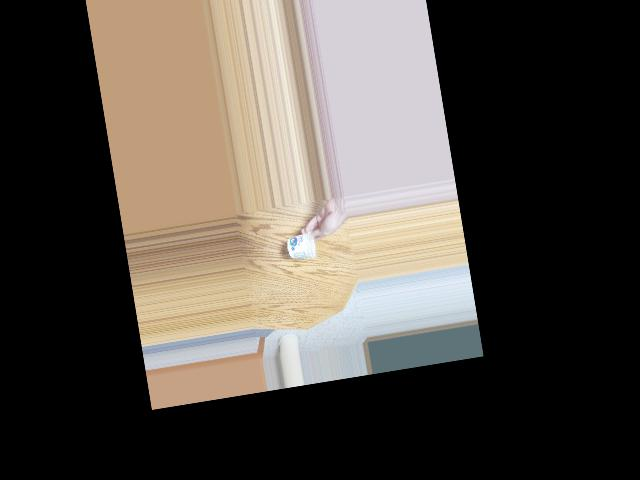cotage: (285, 224, 323, 264)
